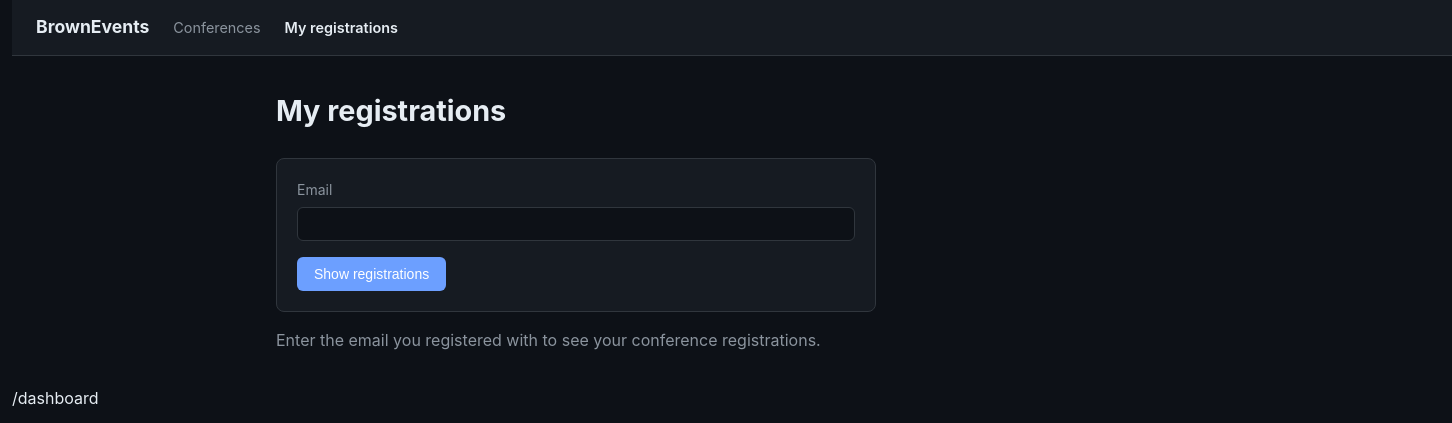
looking up registrations (spec 6.2) › looks up the trimmed email and shows the empty state
In the field labelled "Email": (576, 224) [297,208,855,242], type "  ann@x.example "
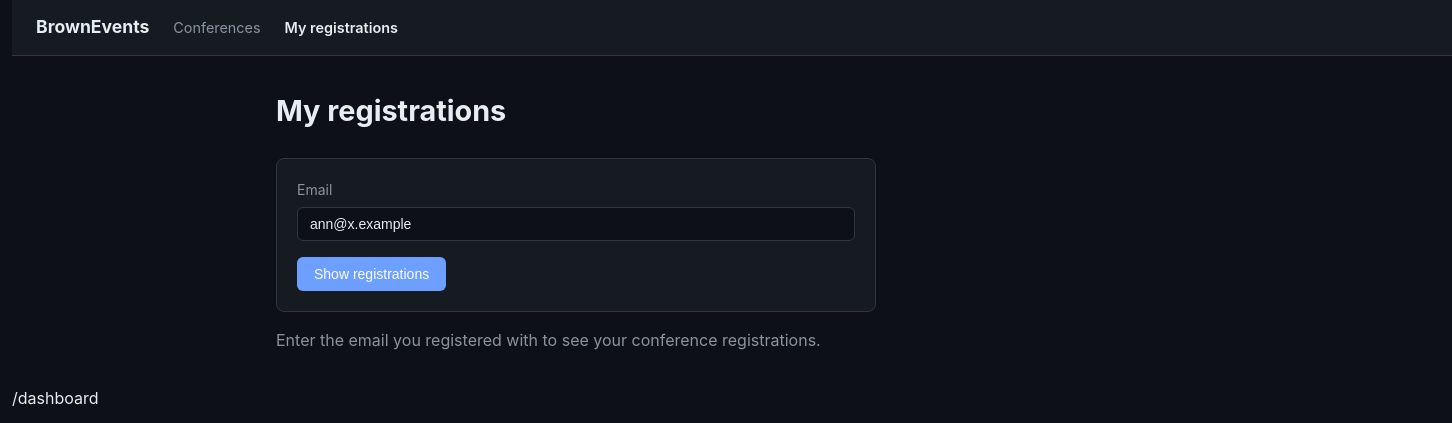
Click the button "Show registrations": (372, 274) [297,258,446,292]
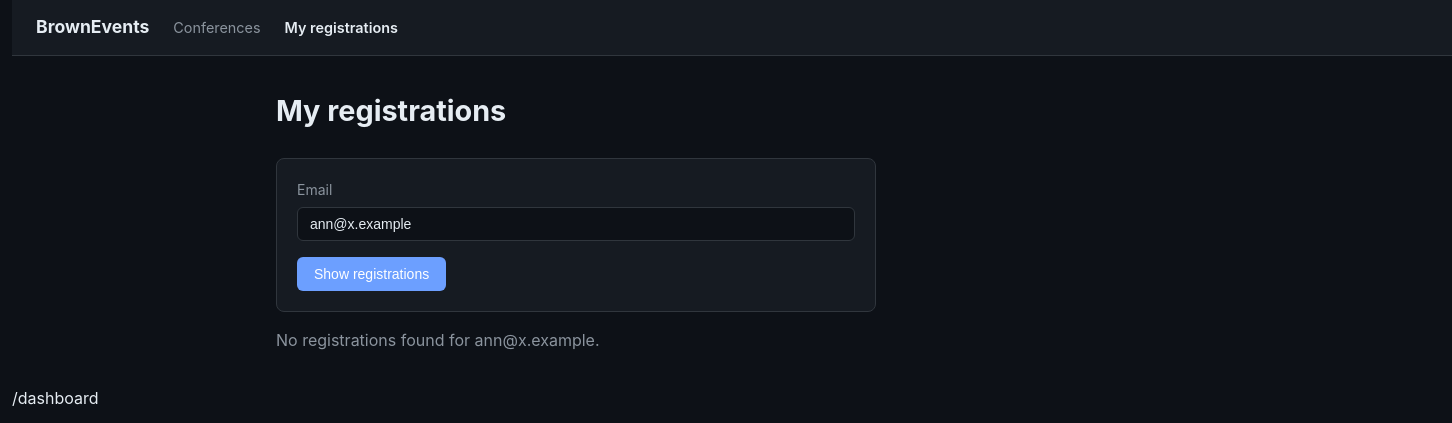
Result: the text "No registrations found for ann@x.example." is shown at [276,330,600,350]
